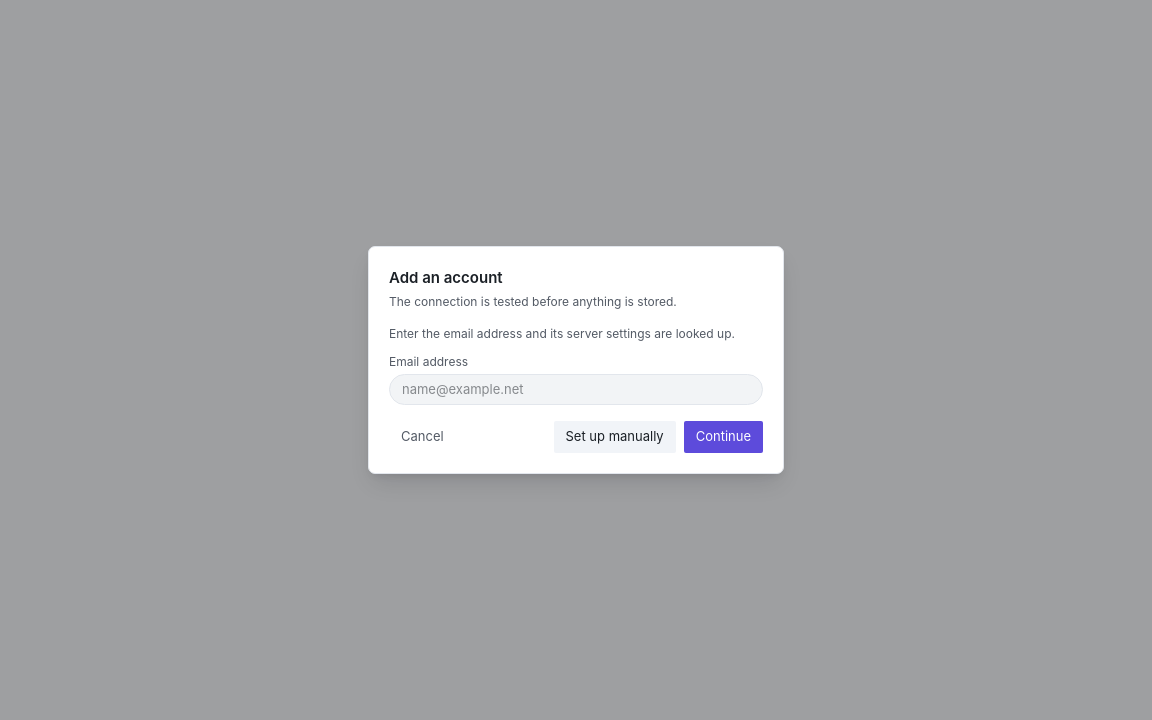
Test case: the oauth offer › renders one button per offered provider beside the password form
Type "work@example.test" into the field labelled "Email address". click: x=576, y=389
box: [389,374,763,405]
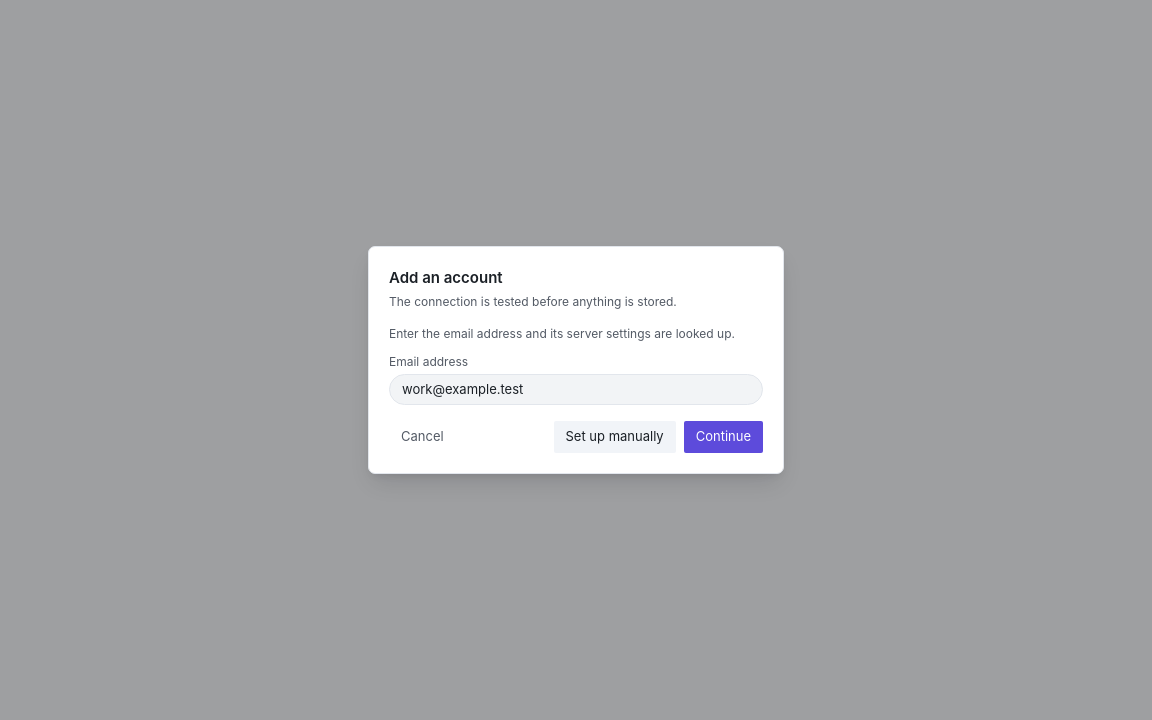
Click the button "Set up manually". click: x=615, y=437
box: [554,421,676,453]
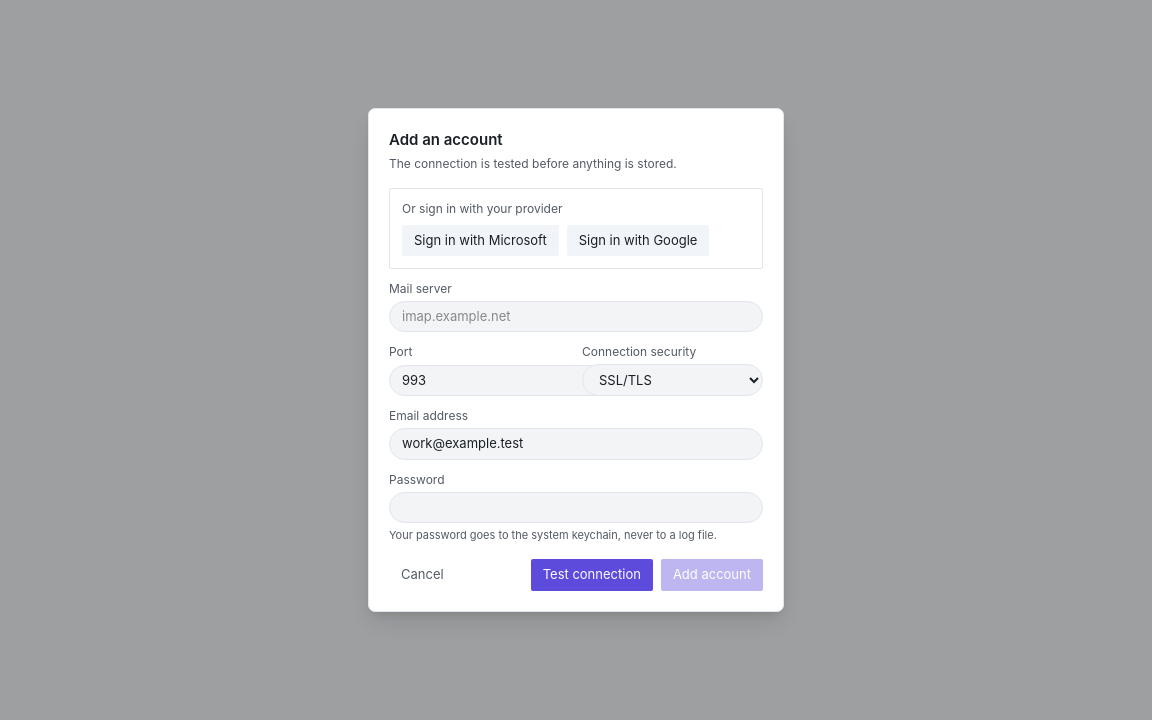
Now the button "Sign in with Microsoft" is shown, box [402,224,559,256]
Now the button "Sign in with Google" is shown, box [567,224,710,256]
Now the password field labelled "Password" is shown, box [389,492,763,523]
